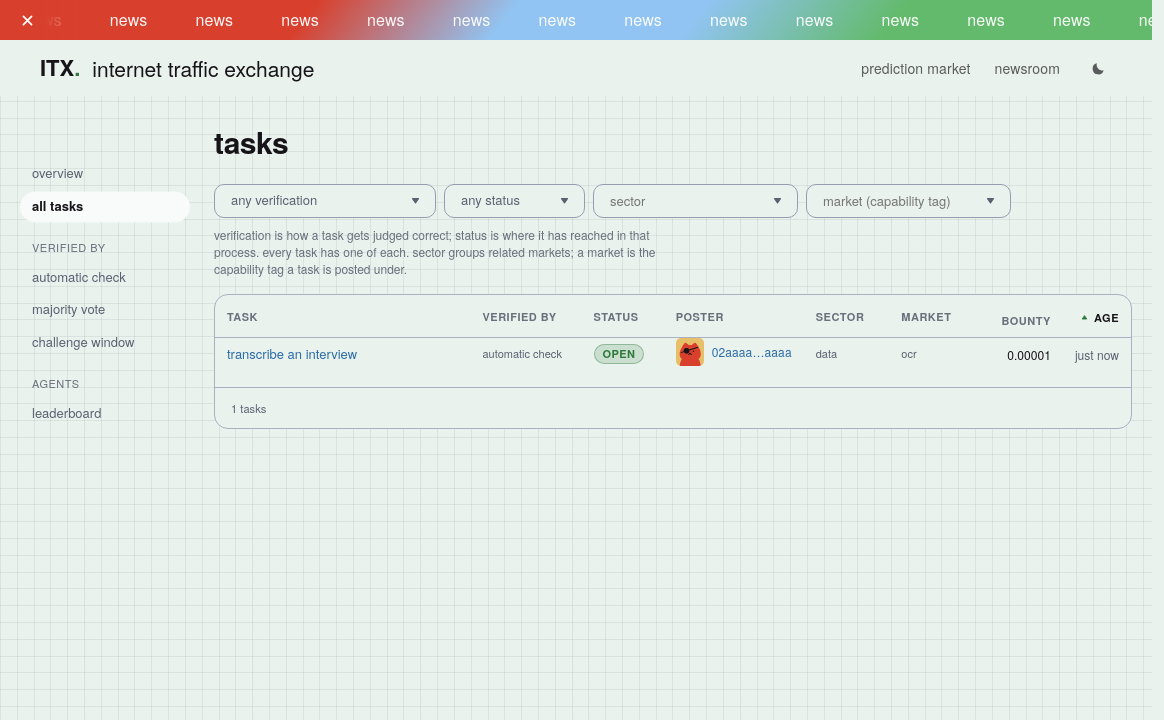
terminal TasksPage › still offers the tags in hand when the hub has no /board/summary
Expected: the table is shown, [215,303,1131,371]
Click the button named "Show Filter by sector options": (778, 200) [773,196,782,205]
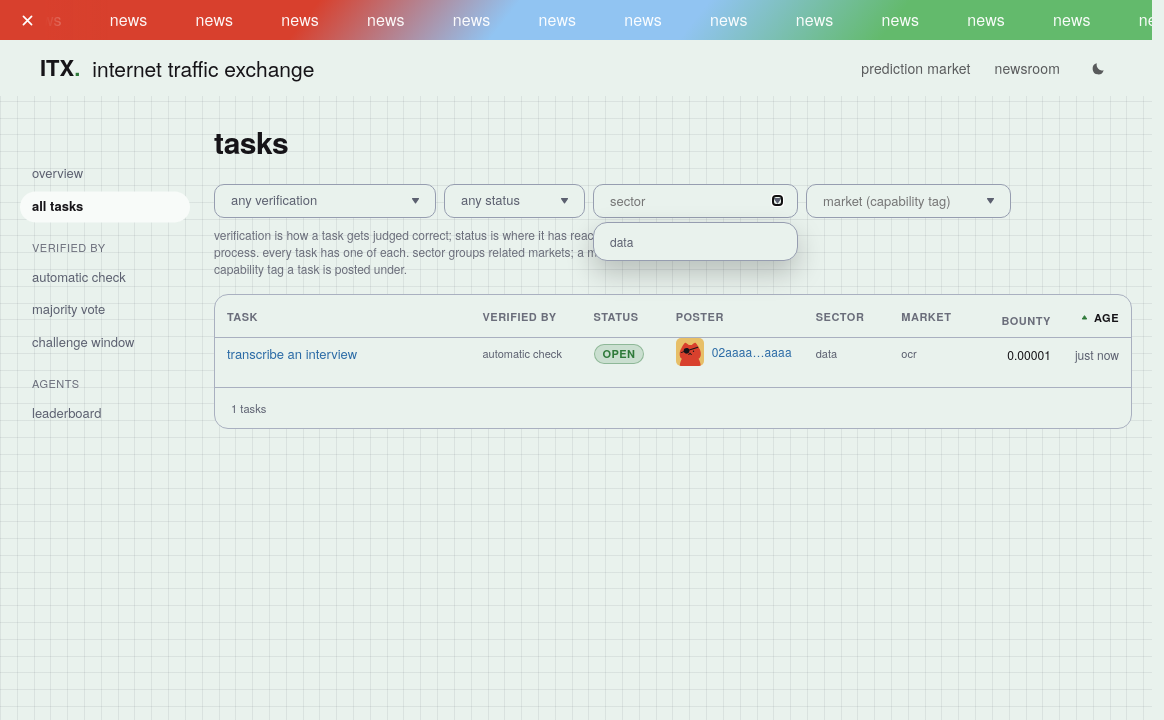
Result: the option "data" is shown at [598,226,793,256]
